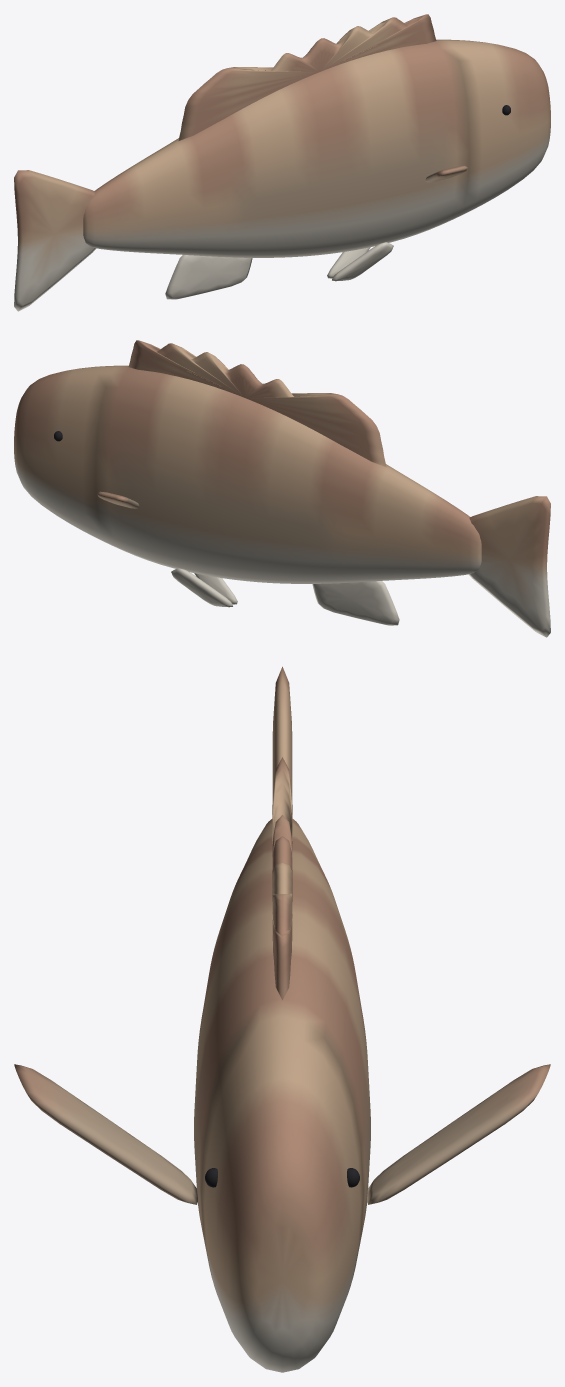
Rendered from copper_rockfish.glb.
3 views of the same model, one above another, from view 1: azimuth 30°, elevation 25°; view 2: azimuth 150°, elevation 25°; view 3: azimuth 270°, elevation 25° (orthographic). The views are drawn at different scales.
Parts seen in each view (by area): view 1: copper_rockfish; view 2: copper_rockfish; view 3: copper_rockfish.
Boxes of the visible parts, x1,y1,x2,y2 form: copper_rockfish: (14, 14, 550, 311); copper_rockfish: (14, 340, 550, 637); copper_rockfish: (14, 666, 550, 1372).
Bounding box in the file's own units: 0.5145 × 0.2324 × 0.239.
